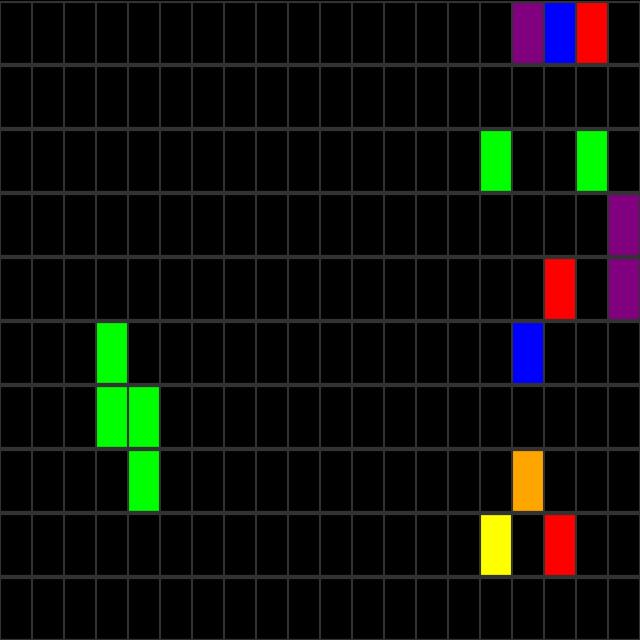Tetrimino_T: (96, 320, 160, 504)
